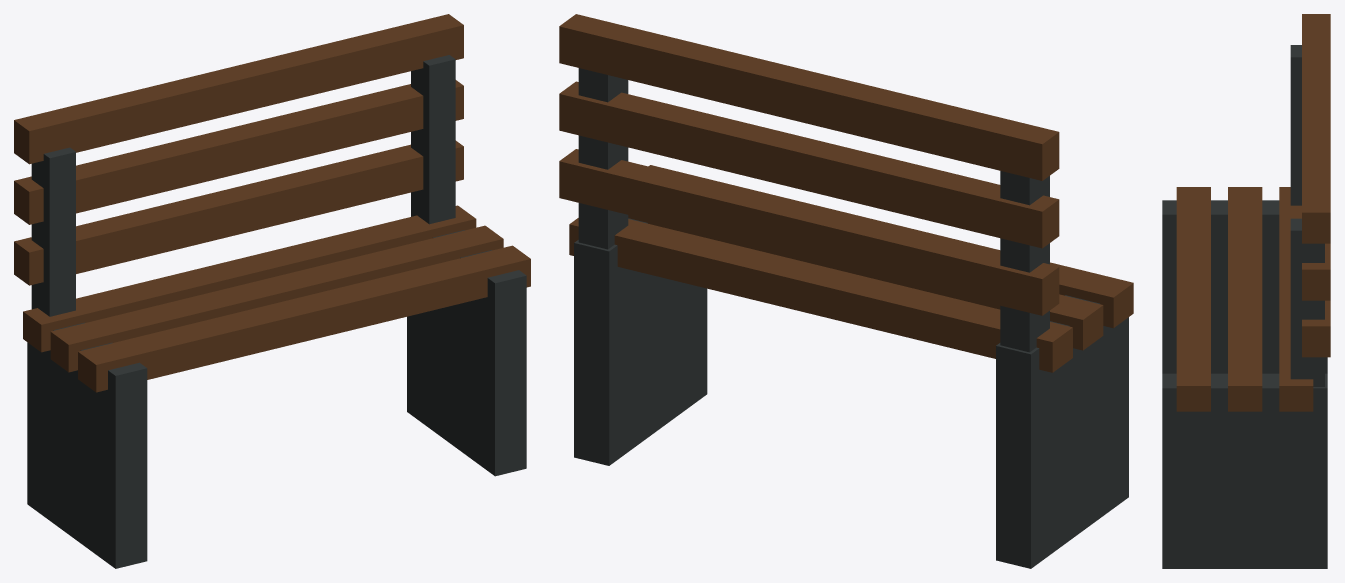
File: Prop_Bench.obj
3 views of the same model, side by side, from view 1: azimuth 30°, elevation 25°; view 2: azimuth 150°, elevation 25°; view 3: azimuth 270°, elevation 25° (orthographic). The views are drawn at different scales.
Visible parts, largest first — view 1: BackSlat, SeatSlat, Leg, BackSupport; view 2: BackSlat, Leg, SeatSlat, BackSupport; view 3: Leg, SeatSlat, BackSlat, BackSupport.
Boxes of the visible parts, x1,y1,x2,y2 form: BackSlat: (14, 14, 463, 285); SeatSlat: (23, 205, 530, 392); Leg: (27, 230, 526, 568); BackSupport: (31, 55, 455, 316); BackSlat: (559, 14, 1059, 315); Leg: (574, 218, 1128, 568); SeatSlat: (569, 165, 1133, 372); BackSupport: (578, 68, 1049, 352); Leg: (1162, 200, 1327, 568); SeatSlat: (1176, 187, 1313, 411); BackSlat: (1302, 14, 1330, 357); BackSupport: (1290, 45, 1324, 386).
Bounding box in the file's own units: 1.65 × 1.4 × 0.59.
